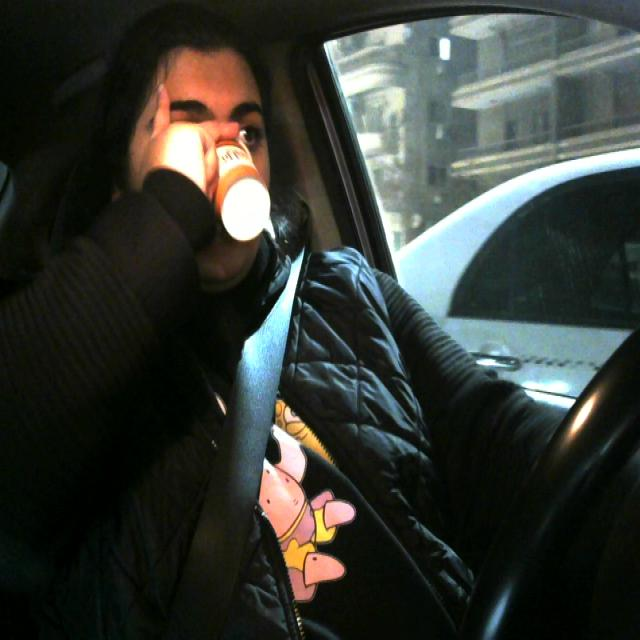drinking: (191, 126, 282, 246)
